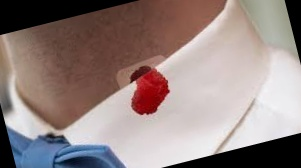blood: (124, 69, 176, 119)
